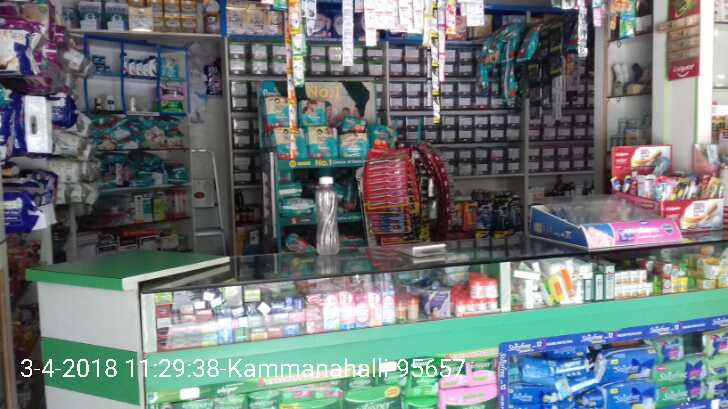oralcare: (369, 150, 409, 205), (368, 213, 408, 230)
vicks: (91, 55, 111, 75)
